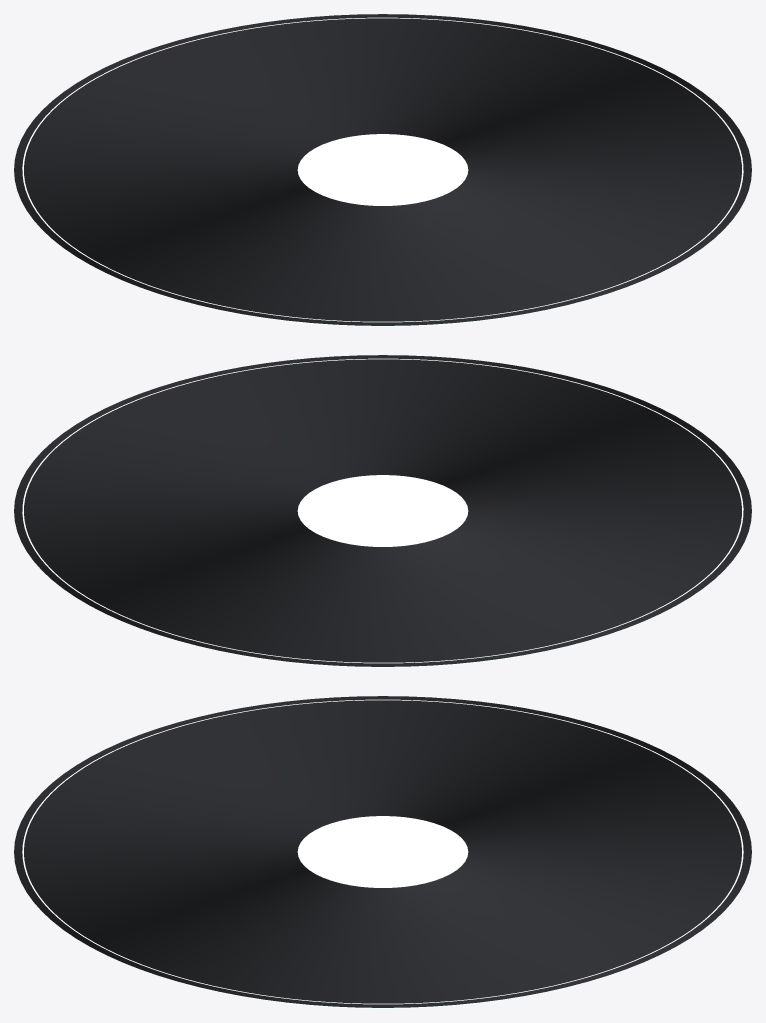
The model's file is ufo_belly_cyan.glb.
The picture shows the model from 3 angles, top to bottom: view 1: azimuth 30°, elevation 25°; view 2: azimuth 150°, elevation 25°; view 3: azimuth 270°, elevation 25°; orthographic projection.
Visible parts, largest first — view 1: ufo_belly_cyan; view 2: ufo_belly_cyan; view 3: ufo_belly_cyan.
Boxes of the visible parts, <box> form: ufo_belly_cyan: <box>14,14,751,326</box>; ufo_belly_cyan: <box>14,355,751,667</box>; ufo_belly_cyan: <box>14,696,751,1008</box>.
Bounding box in the file's own units: 242 × 7.56 × 242.
